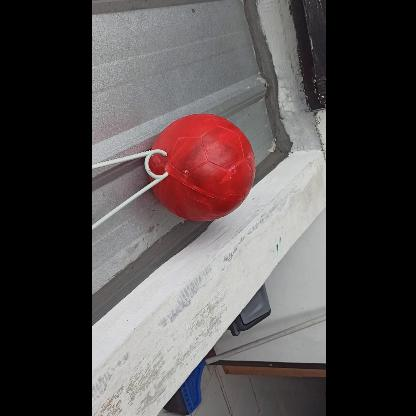red_ball: (147, 113, 255, 221)
